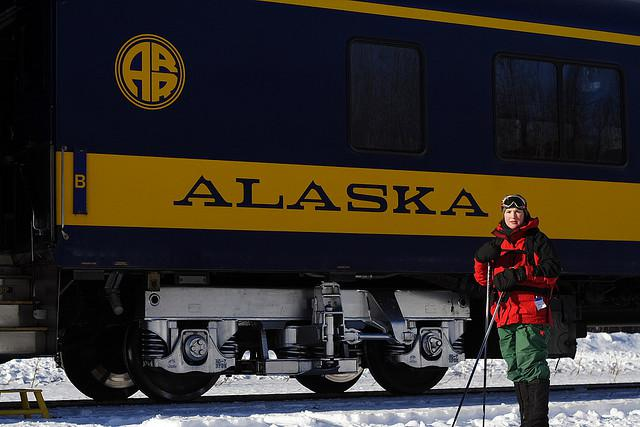Train: (0, 2, 640, 403)
